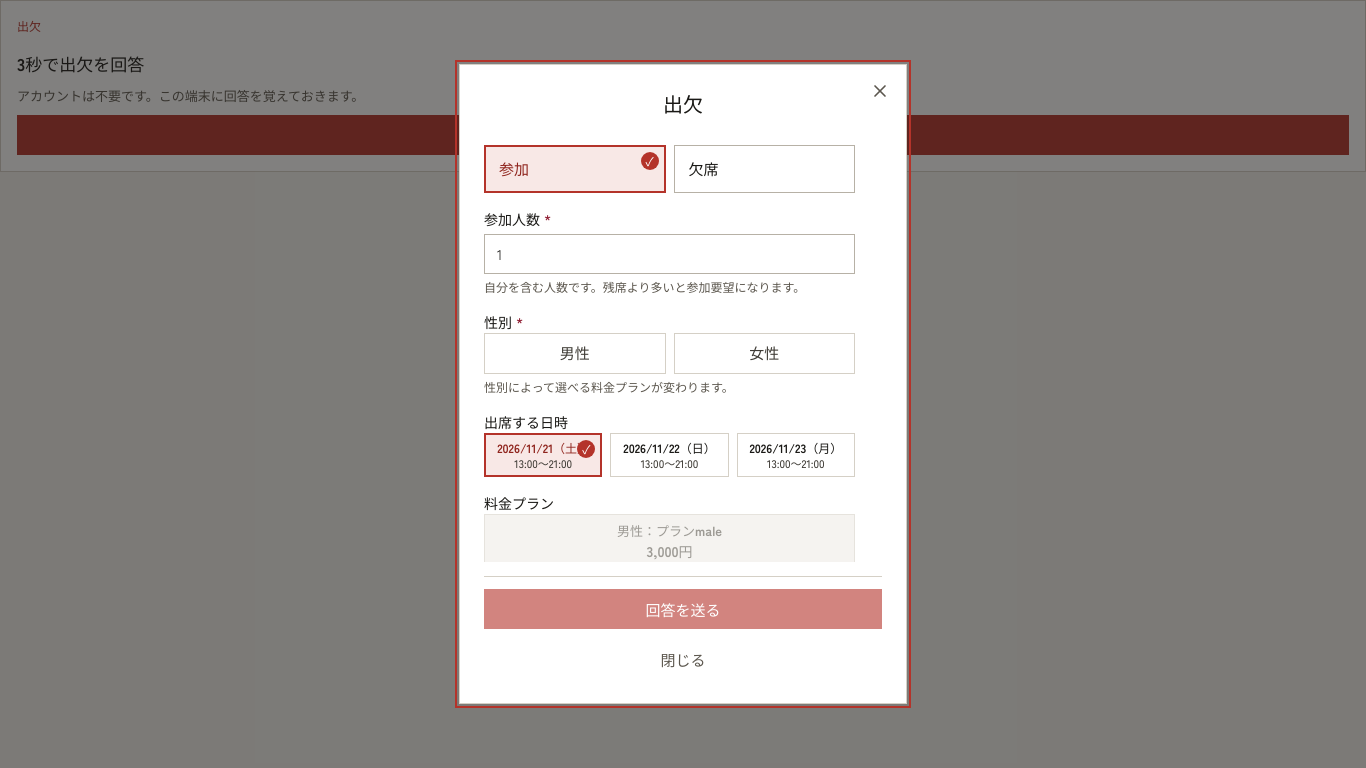
性別と料金プラン › 男女別プランが 1 件だけでも、料金の欄と札を出す（以前は欄ごと消えていた）
This screenshot has width=1366, height=768.
Expected: the text "料金プラン" is shown, [484,493,554,514]
Click the radio button named "gender": (575, 353) [484,333,666,374]
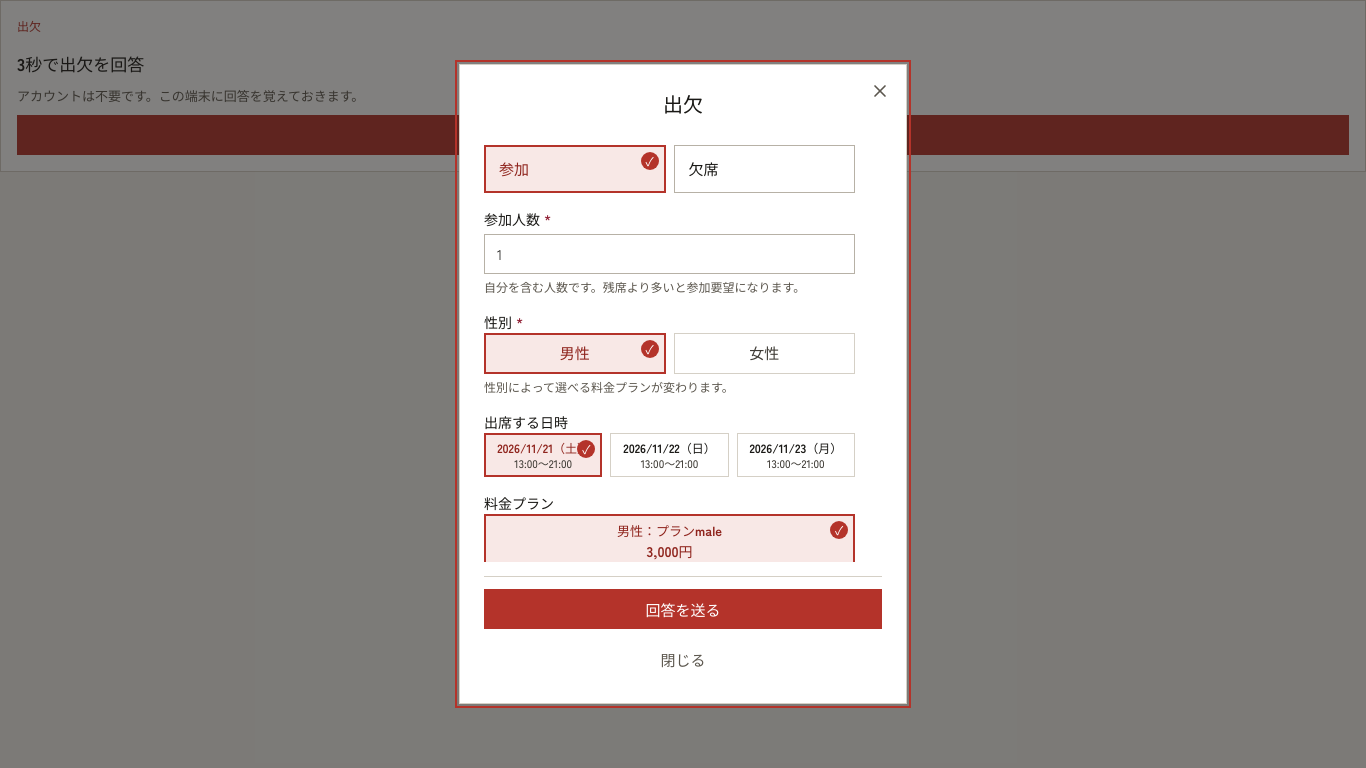
Expected: the radio button named "price-plan" is enabled, [484,514,855,562]
Expected: the radio button named "price-plan" is checked, [484,514,855,562]
